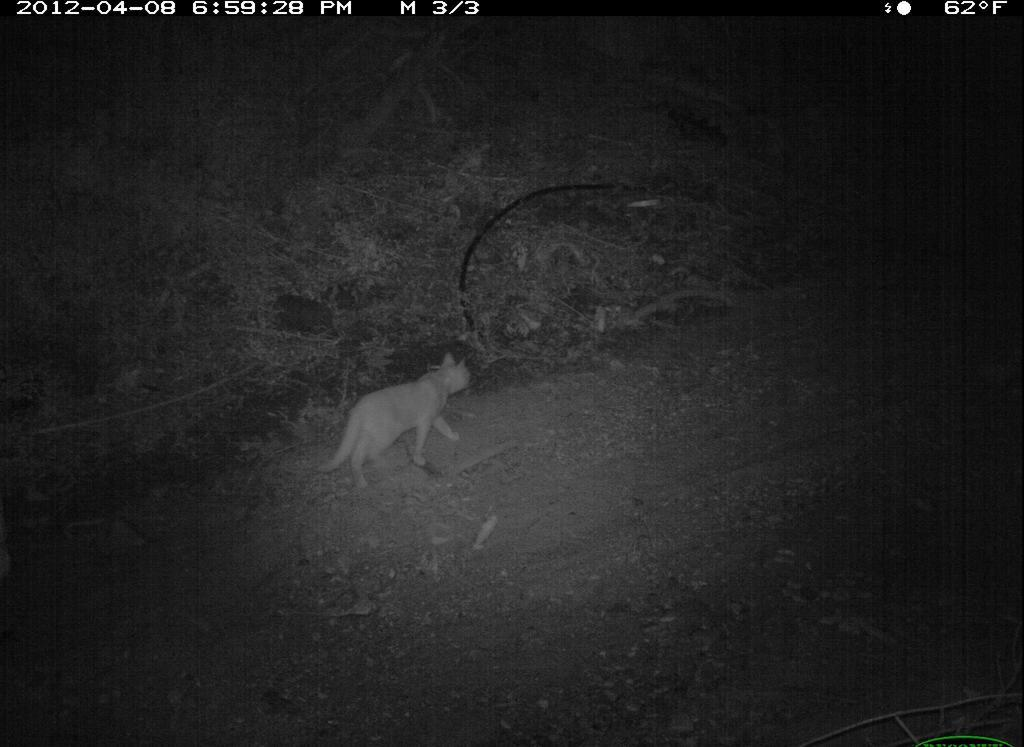cat: (315, 351, 479, 497)
